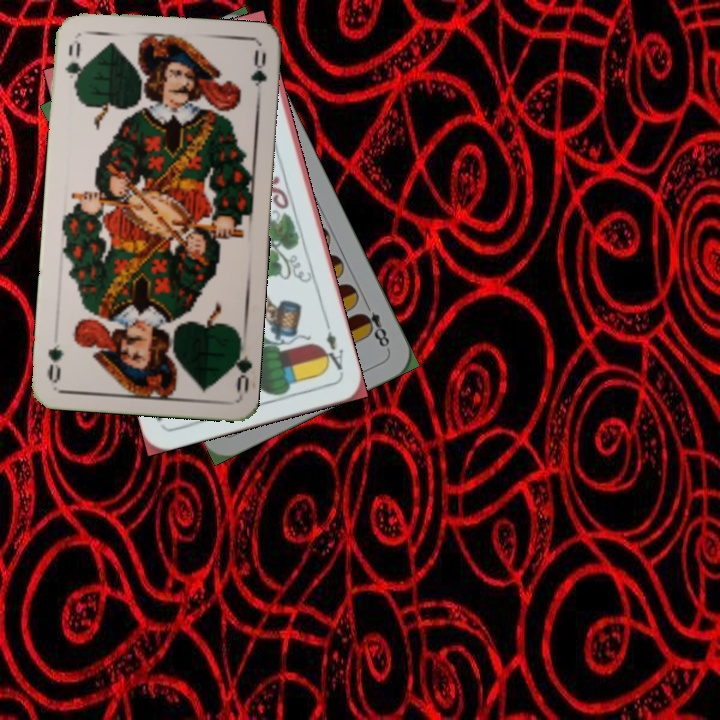E8: (356, 297, 392, 353)
EA: (318, 318, 346, 377)
GO: (225, 336, 253, 395), (61, 34, 87, 94)
